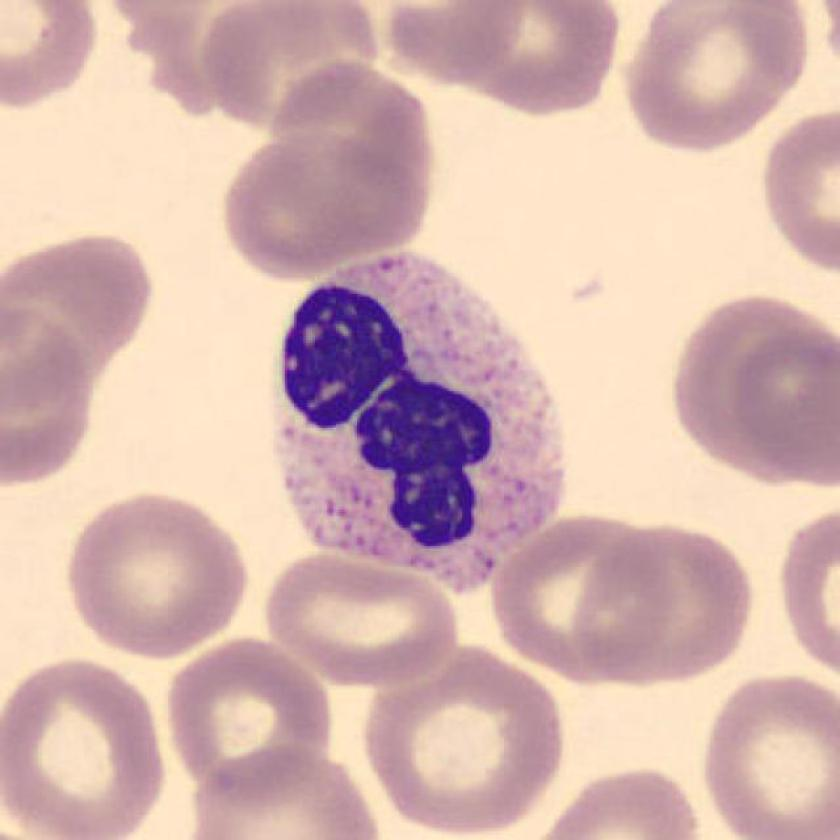neutrophil: (278, 252, 569, 596)
